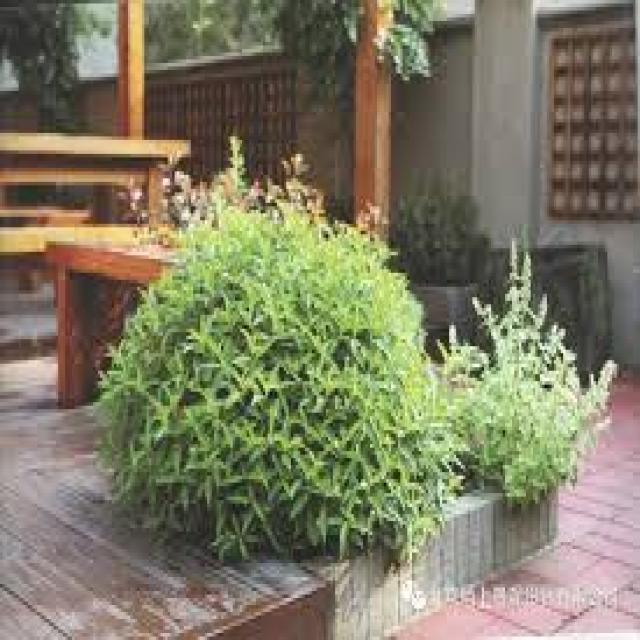foliage: (100, 199, 449, 560), (433, 241, 614, 504)
